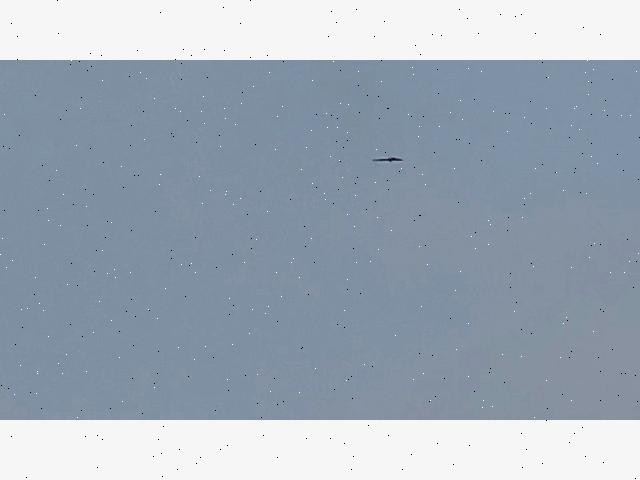Anti-Drone: (370, 154, 406, 164)
